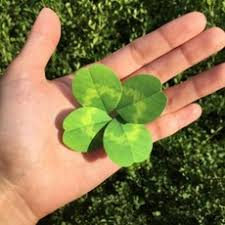4-clover: (65, 65, 163, 162)
